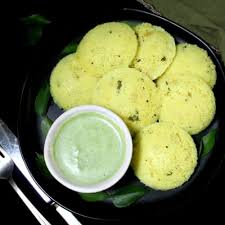chutney: (55, 118, 116, 179)
idli: (130, 120, 197, 194), (95, 68, 162, 137), (154, 38, 221, 97), (155, 75, 214, 136), (77, 22, 141, 76), (123, 18, 177, 82), (51, 52, 113, 107)
